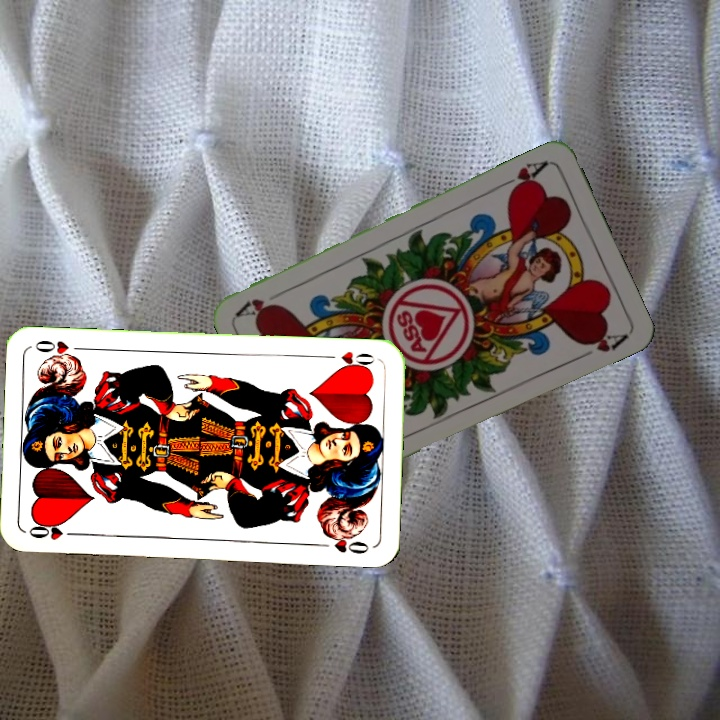HA: (496, 156, 551, 197)
HO: (321, 347, 380, 373), (24, 519, 83, 543)
